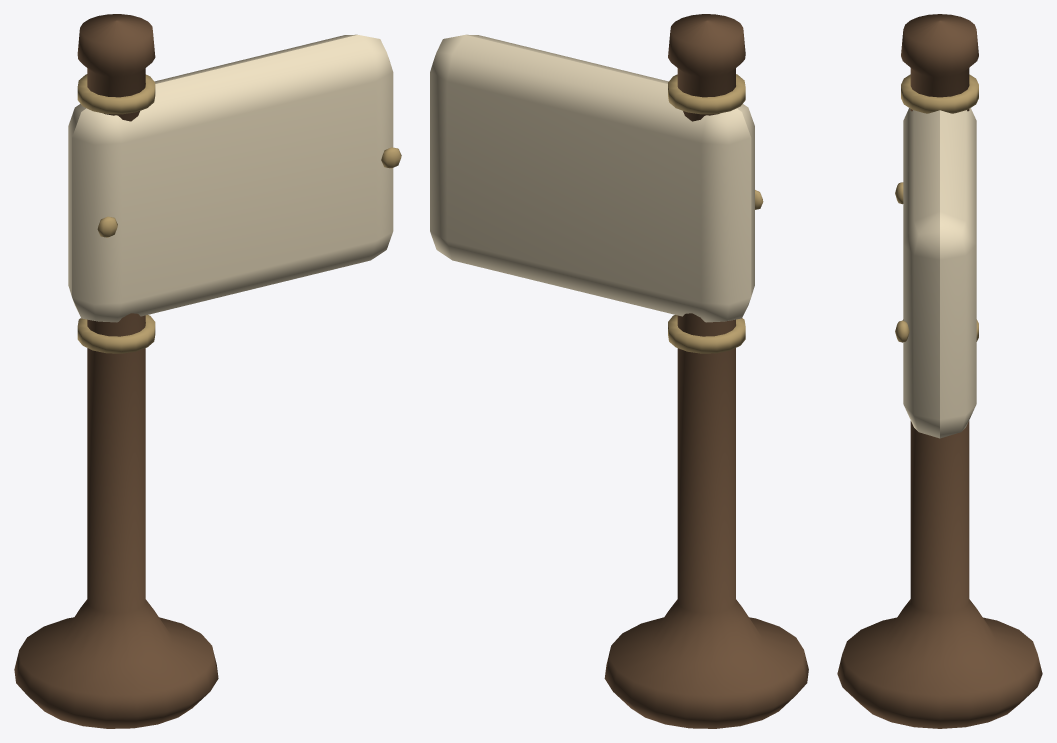
The model's file is property_sign_frame_atelier.glb.
3 renders of one model, left to right at view 1: azimuth 30°, elevation 25°; view 2: azimuth 150°, elevation 25°; view 3: azimuth 270°, elevation 25°, orthographic.
Parts seen in each view (by area): view 1: property_sign_frame_atelier__Painted_property_sign_frame_ate (×2), property_sign_frame_atelier__TaggedPainted_property_sign_fra; view 2: property_sign_frame_atelier__Painted_property_sign_frame_ate (×2), property_sign_frame_atelier__TaggedPainted_property_sign_fra; view 3: property_sign_frame_atelier__TaggedPainted_property_sign_fra, property_sign_frame_atelier__Painted_property_sign_frame_ate (×2).
Boxes of the visible parts, left/top/right/bottom form: property_sign_frame_atelier__Painted_property_sign_frame_ate (×2): left=68, top=34, right=401, bottom=353; property_sign_frame_atelier__TaggedPainted_property_sign_fra: left=14, top=14, right=218, bottom=728; property_sign_frame_atelier__Painted_property_sign_frame_ate (×2): left=430, top=34, right=763, bottom=353; property_sign_frame_atelier__TaggedPainted_property_sign_fra: left=604, top=14, right=808, bottom=728; property_sign_frame_atelier__TaggedPainted_property_sign_fra: left=837, top=14, right=1042, bottom=728; property_sign_frame_atelier__Painted_property_sign_frame_ate (×2): left=895, top=74, right=978, bottom=438.
Bounding box in the file's own units: 0.855 × 1.52 × 0.42.
